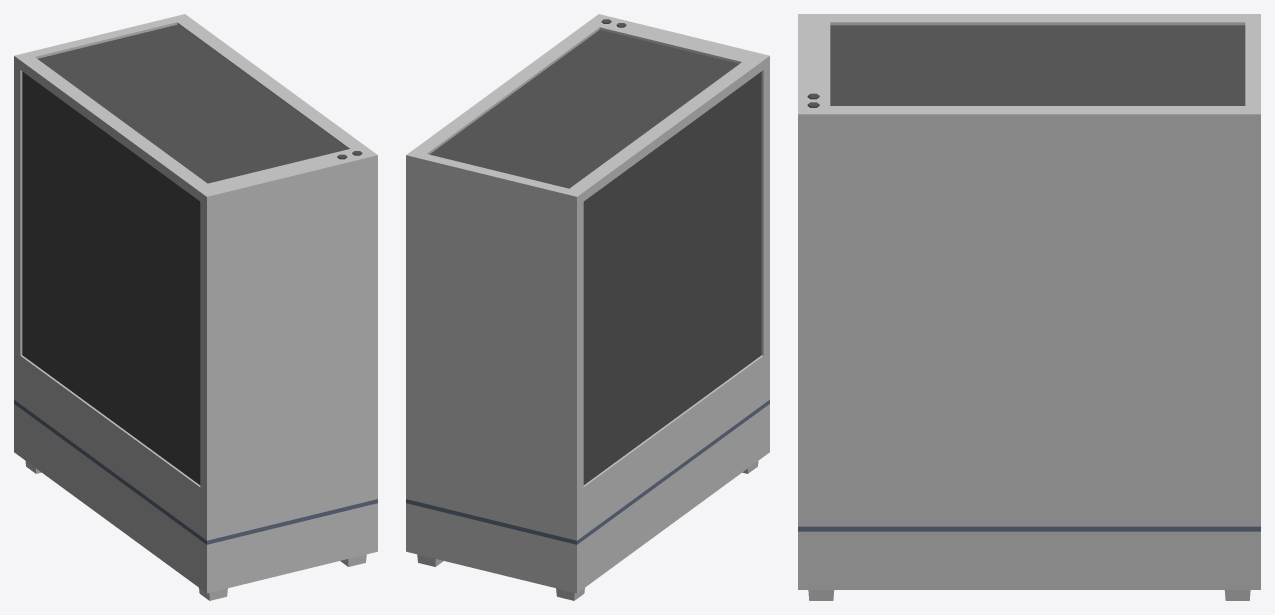
3 views of the same model, side by side, from view 1: azimuth 30°, elevation 25°; view 2: azimuth 150°, elevation 25°; view 3: azimuth 270°, elevation 25° (orthographic). The views are drawn at different scales.
Visible parts, largest first — view 1: PC_02; view 2: PC_02; view 3: PC_02.
Part boxes in pixels (bbox=[...]): PC_02: bbox=[14, 14, 377, 600]; PC_02: bbox=[406, 14, 769, 600]; PC_02: bbox=[798, 14, 1260, 600].
Size of the model in its own units: 21 by 48.14 by 41.
